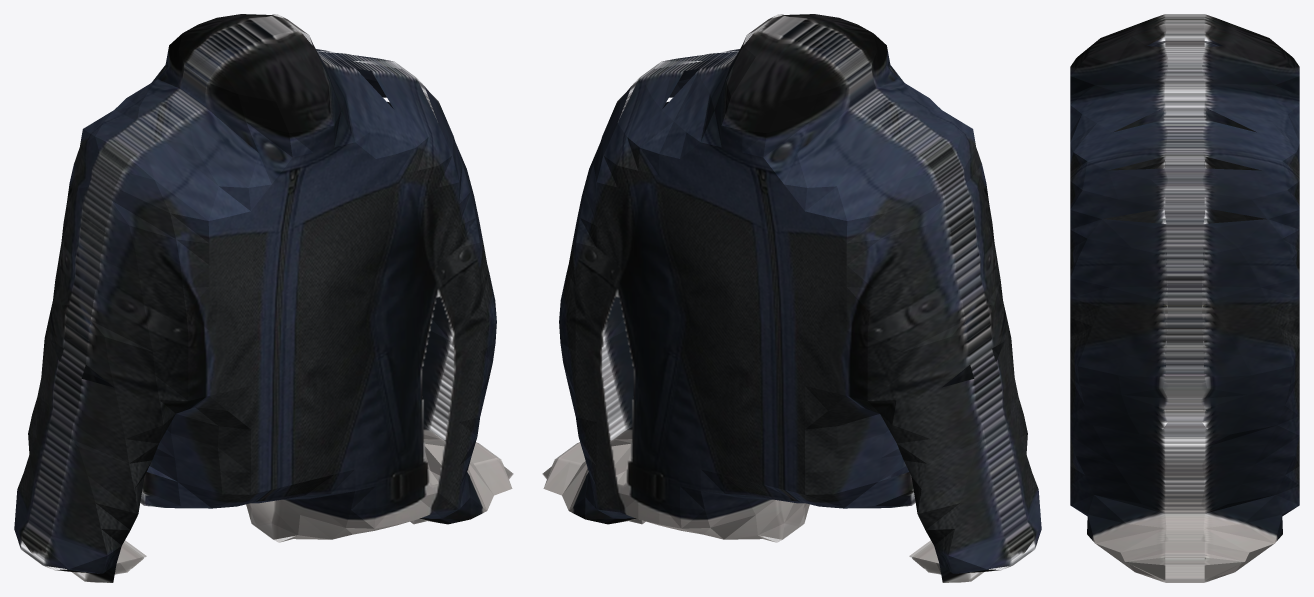
File: oxford-apex-mesh-jacket-013.glb
The picture shows the model from 3 angles, left to right: view 1: azimuth 30°, elevation 25°; view 2: azimuth 150°, elevation 25°; view 3: azimuth 270°, elevation 25°; orthographic projection. The views are drawn at different scales.
Visible parts, largest first — view 1: world; view 2: world; view 3: world.
Boxes of the visible parts, box(x1,y1,x2,y2) form: world: box(14, 14, 513, 582); world: box(542, 14, 1041, 582); world: box(1070, 14, 1299, 582).
Bounding box in the file's own units: 0.9417 × 1 × 0.44.
Materials: 1 (1 with a texture image).
